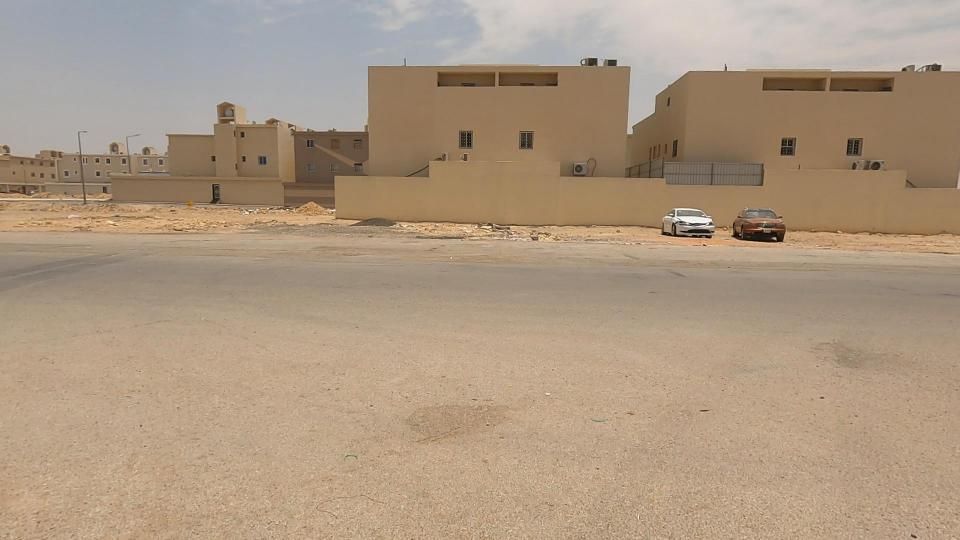GARBAGE: (452, 203, 536, 257), (220, 191, 299, 231), (303, 186, 361, 235)
SAND_ON_ROAD: (281, 180, 333, 244)
